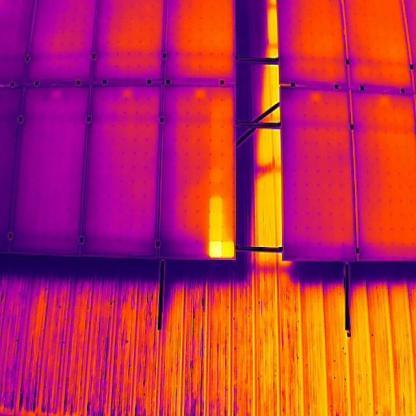anomaly: (206, 194, 240, 260)
